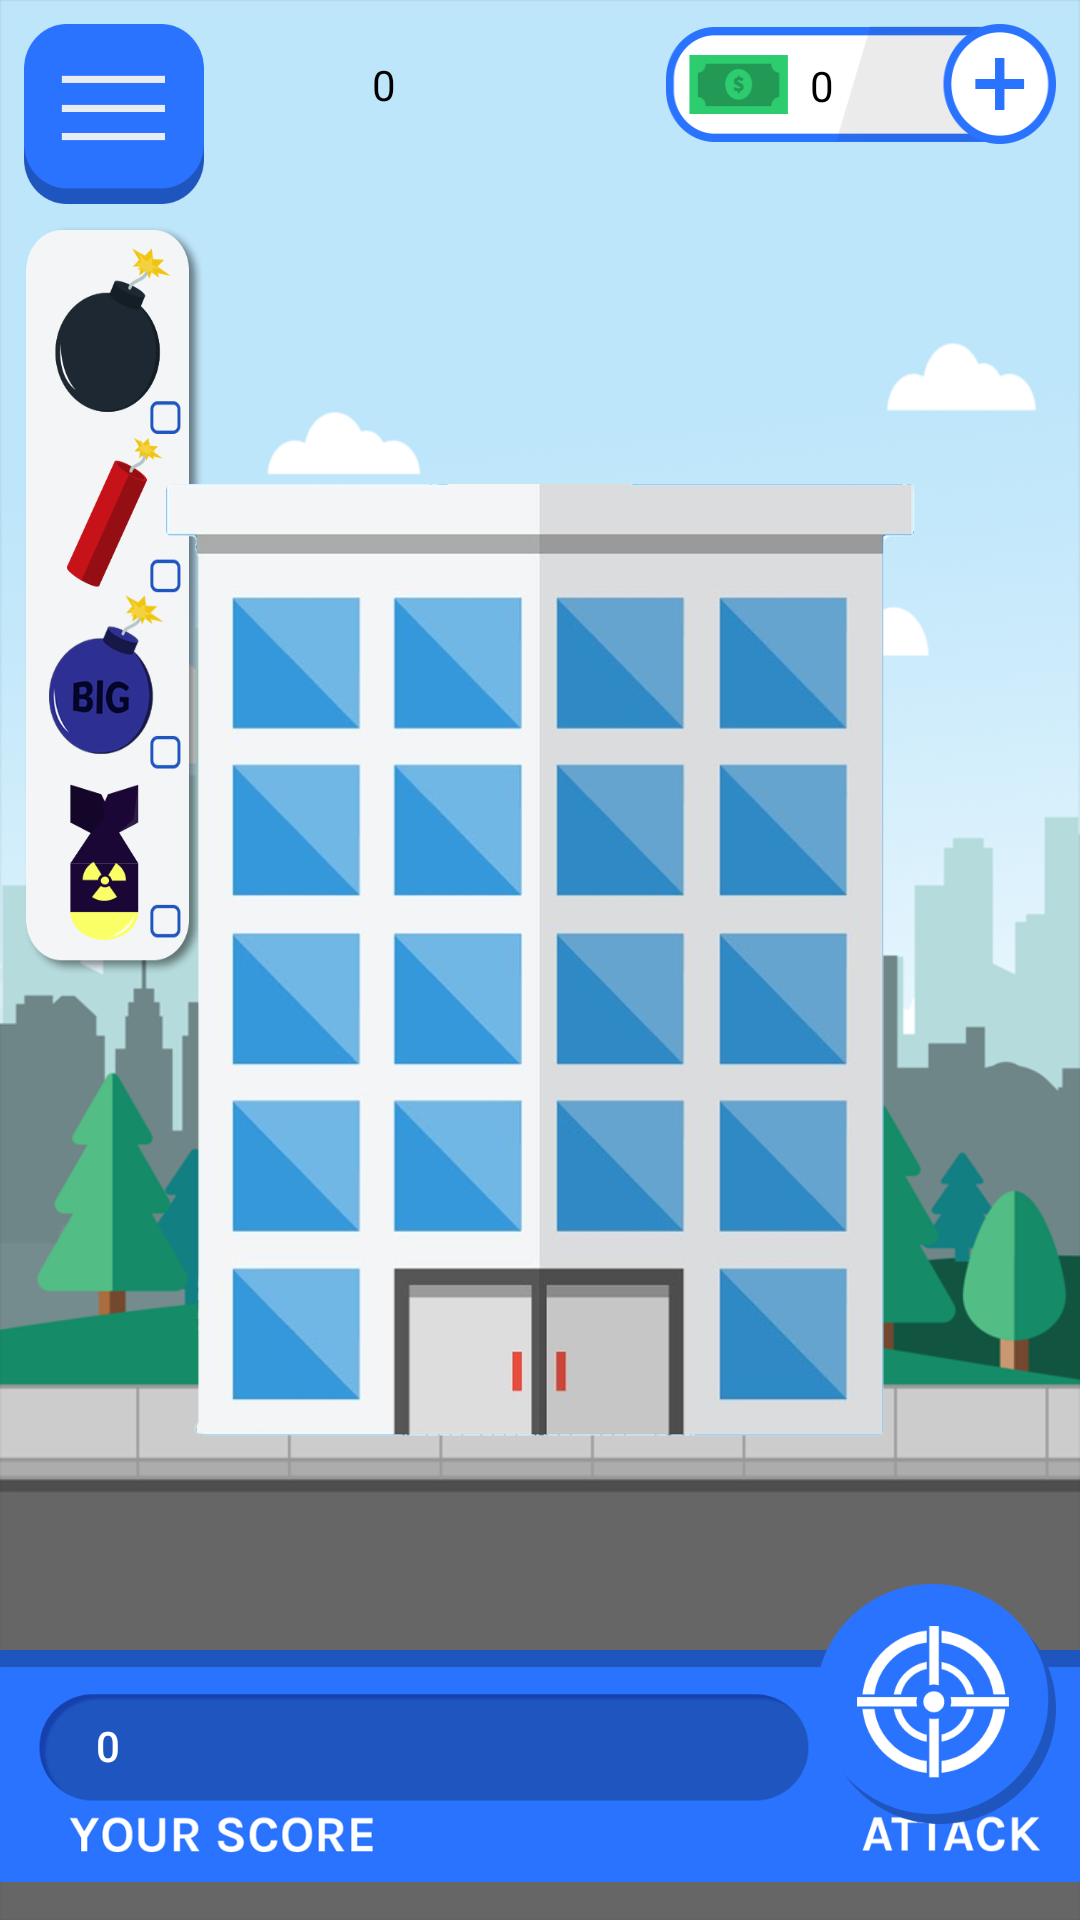

Icons on this 1080×1920 Android screen, each with the point to tap as (x=x, y=y):
opt: (x=114, y=114)
